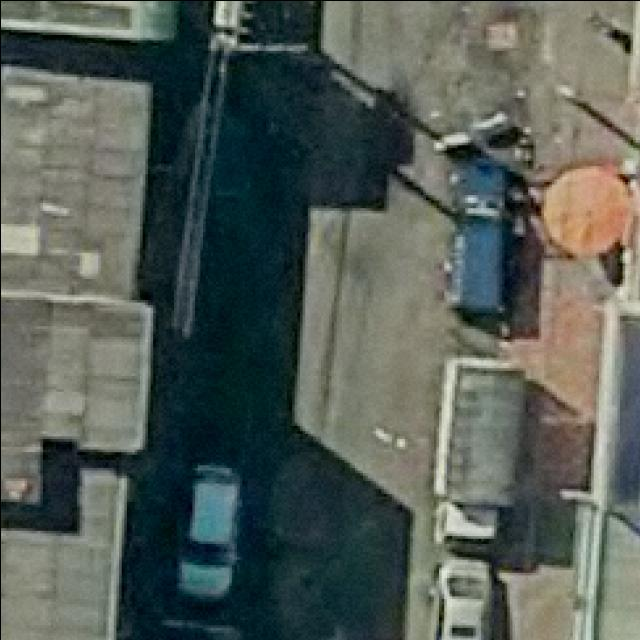vendedor_ambulante: (534, 157, 639, 261)
